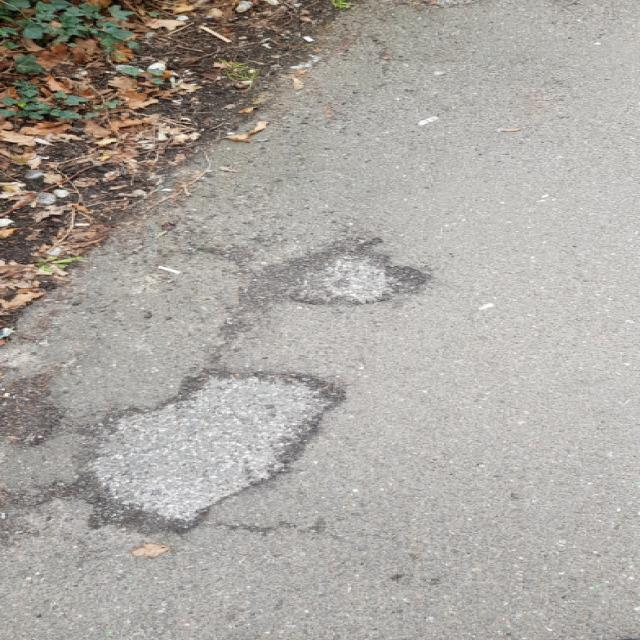Pothole: (71, 367, 349, 538), (261, 239, 434, 307)
